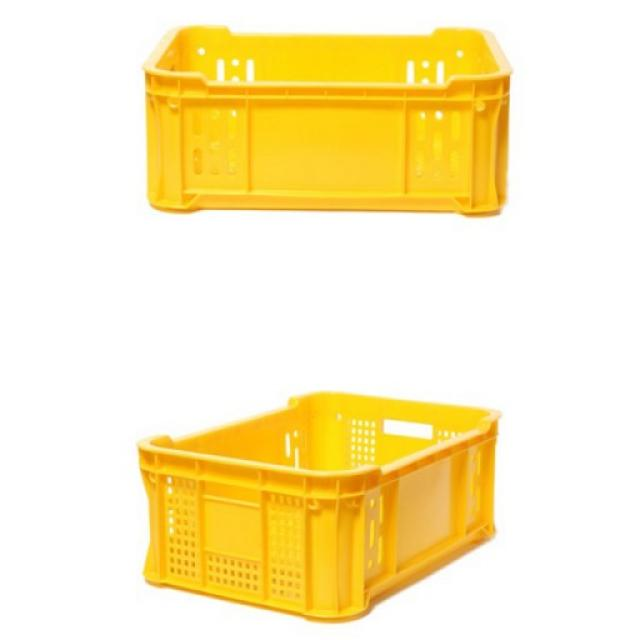basket: (133, 388, 499, 626), (143, 26, 512, 213)
